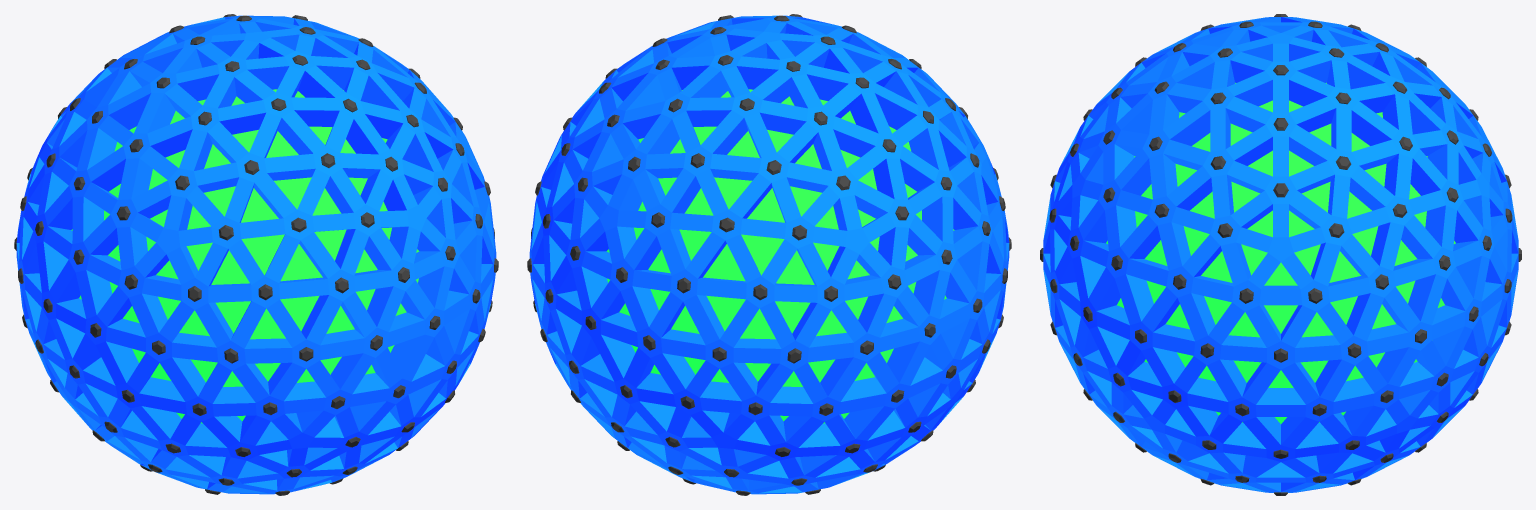
Rendered from Projectile.fbx.
3 views of the same model, side by side, from view 1: azimuth 30°, elevation 25°; view 2: azimuth 150°, elevation 25°; view 3: azimuth 270°, elevation 25° (orthographic).
Parts seen in each view (by area): view 1: Icosphere; view 2: Icosphere; view 3: Icosphere.
Boxes of the visible parts, box(x1,y1,x2,y2) form: Icosphere: box(14, 14, 498, 495); Icosphere: box(527, 14, 1011, 495); Icosphere: box(1040, 14, 1521, 495).
Size of the model in its own units: 200 by 198 by 200.
